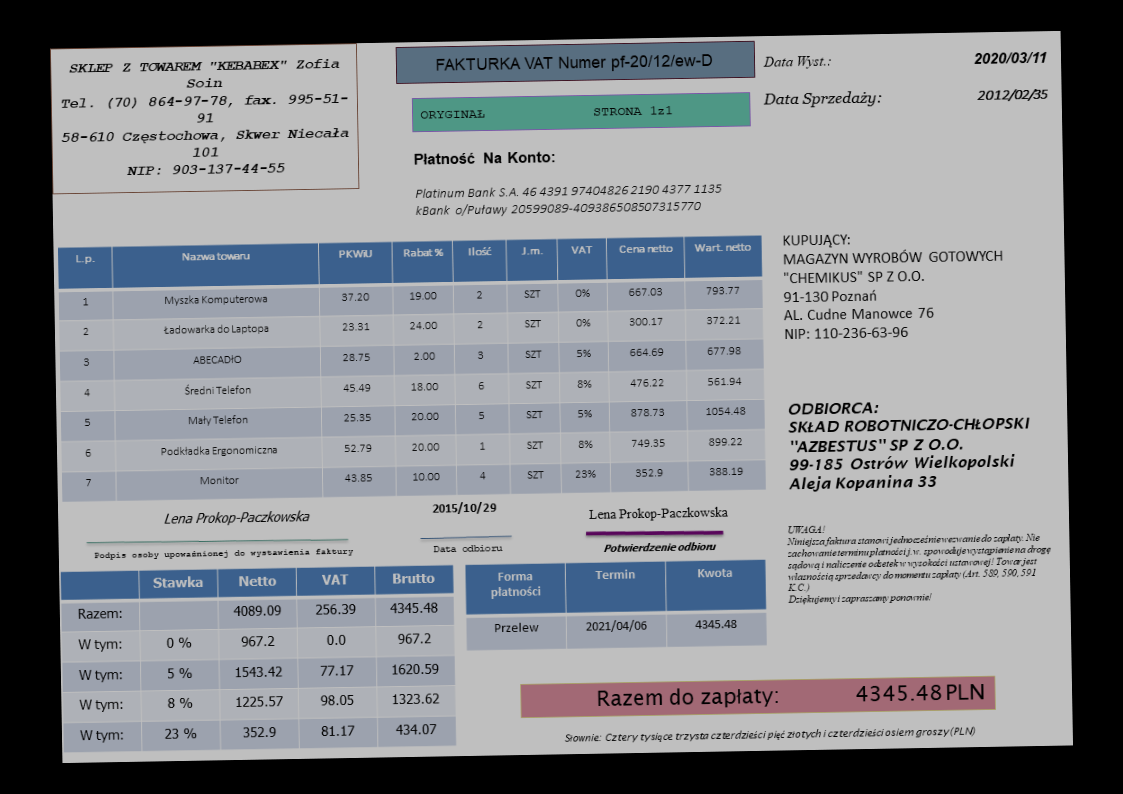Table: (55, 234, 768, 504), (60, 564, 458, 755), (464, 558, 769, 652)
TextBox: (56, 56, 353, 178), (780, 226, 1007, 343), (786, 396, 1033, 494), (785, 518, 1055, 607), (412, 180, 724, 219), (596, 680, 986, 711), (563, 724, 978, 745), (433, 49, 716, 76), (419, 102, 676, 122), (91, 546, 355, 562), (162, 508, 312, 528), (412, 148, 558, 168), (585, 503, 728, 523), (762, 89, 885, 110), (601, 538, 717, 555), (973, 49, 1049, 67), (975, 86, 1049, 104), (762, 52, 833, 70), (431, 499, 498, 517), (431, 541, 503, 556)
